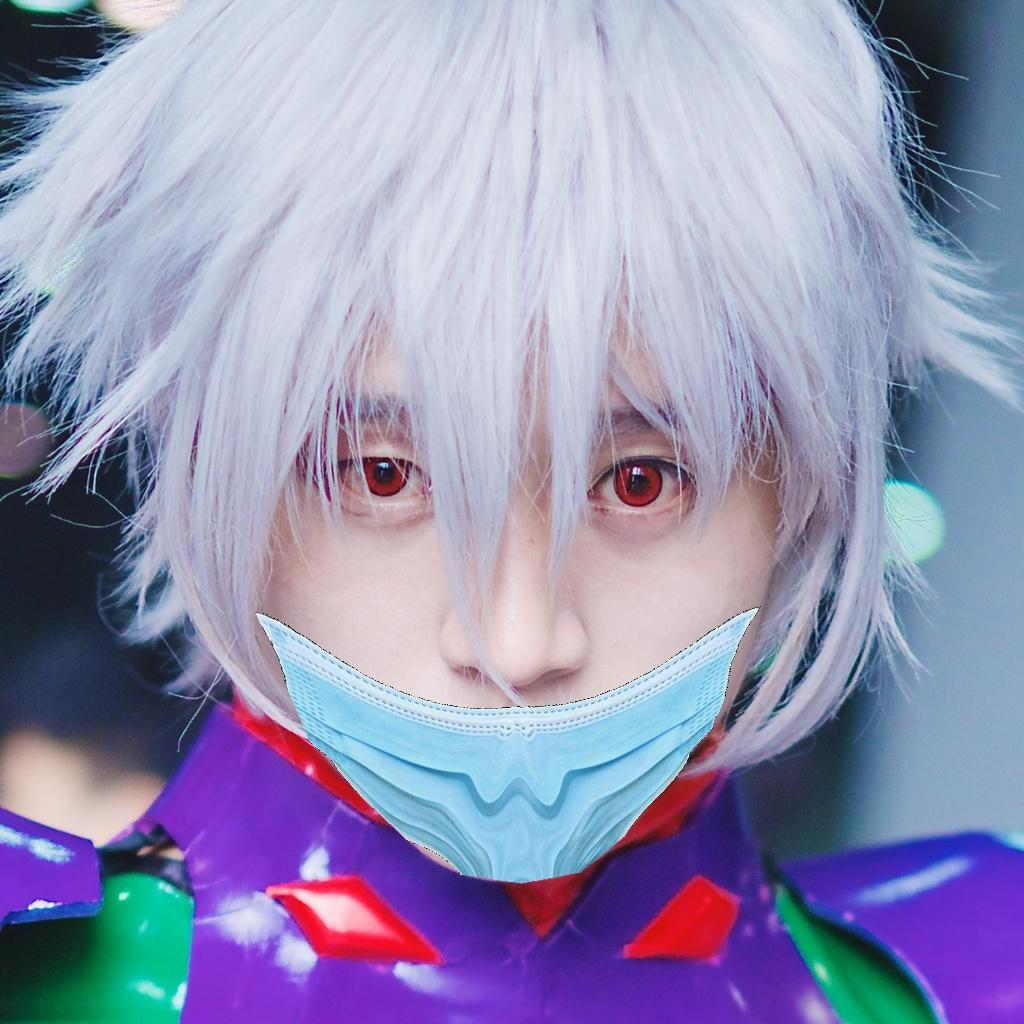Máscara Incorreta: (170, 264, 812, 888)
